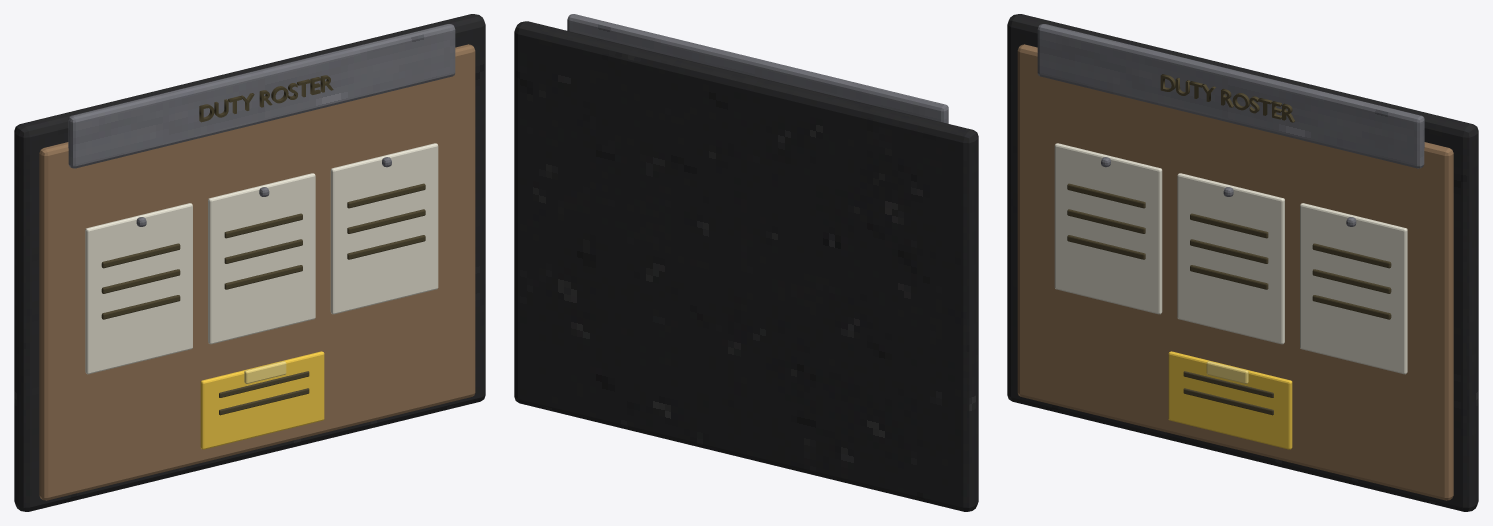
File: decor_bridge_crew_roster_board.glb
The picture shows the model from 3 angles, left to right: view 1: azimuth 30°, elevation 25°; view 2: azimuth 150°, elevation 25°; view 3: azimuth 330°, elevation 25°; orthographic projection.
Visible parts, largest first — view 1: DEC_BridgeCrewRosterBoard__Cork_Face, DEC_BridgeCrewRosterBoard__Board_Back, DEC_BridgeCrewRosterBoard__Header, DEC_BridgeCrewRosterBoard__Card_3, DEC_BridgeCrewRosterBoard__Card_2, DEC_BridgeCrewRosterBoard__Card_1, DEC_BridgeCrewRosterBoard__Briefing_Note, DEC_BridgeCrewRosterBoard__Header_Text, DEC_BridgeCrewRosterBoard__Note_Tape, DEC_BridgeCrewRosterBoard__Card_Line_1_1, DEC_BridgeCrewRosterBoard__Card_Line_1_2, DEC_BridgeCrewRosterBoard__Card_Line_1_3 (+8 smaller); view 2: DEC_BridgeCrewRosterBoard__Board_Back, DEC_BridgeCrewRosterBoard__Header; view 3: DEC_BridgeCrewRosterBoard__Cork_Face, DEC_BridgeCrewRosterBoard__Board_Back, DEC_BridgeCrewRosterBoard__Header, DEC_BridgeCrewRosterBoard__Card_1, DEC_BridgeCrewRosterBoard__Card_2, DEC_BridgeCrewRosterBoard__Card_3, DEC_BridgeCrewRosterBoard__Briefing_Note, DEC_BridgeCrewRosterBoard__Header_Text, DEC_BridgeCrewRosterBoard__Note_Tape, DEC_BridgeCrewRosterBoard__Card_Line_3_1, DEC_BridgeCrewRosterBoard__Card_Line_2_1, DEC_BridgeCrewRosterBoard__Card_Line_3_2 (+8 smaller).
Part boxes in pixels (x1,y1,x2,y2): DEC_BridgeCrewRosterBoard__Cork_Face: [39, 44, 475, 500]; DEC_BridgeCrewRosterBoard__Board_Back: [14, 14, 485, 511]; DEC_BridgeCrewRosterBoard__Header: [68, 24, 455, 168]; DEC_BridgeCrewRosterBoard__Card_3: [330, 143, 438, 314]; DEC_BridgeCrewRosterBoard__Card_2: [208, 173, 315, 344]; DEC_BridgeCrewRosterBoard__Card_1: [85, 203, 192, 374]; DEC_BridgeCrewRosterBoard__Briefing_Note: [200, 351, 324, 449]; DEC_BridgeCrewRosterBoard__Header_Text: [199, 75, 333, 122]; DEC_BridgeCrewRosterBoard__Note_Tape: [244, 361, 286, 383]; DEC_BridgeCrewRosterBoard__Card_Line_1_1: [101, 243, 180, 268]; DEC_BridgeCrewRosterBoard__Card_Line_1_2: [101, 269, 180, 293]; DEC_BridgeCrewRosterBoard__Card_Line_1_3: [101, 295, 180, 319]; DEC_BridgeCrewRosterBoard__Board_Back: [514, 21, 978, 511]; DEC_BridgeCrewRosterBoard__Header: [567, 14, 948, 123]; DEC_BridgeCrewRosterBoard__Cork_Face: [1017, 44, 1453, 500]; DEC_BridgeCrewRosterBoard__Board_Back: [1007, 14, 1478, 511]; DEC_BridgeCrewRosterBoard__Header: [1037, 24, 1424, 168]; DEC_BridgeCrewRosterBoard__Card_1: [1054, 143, 1162, 314]; DEC_BridgeCrewRosterBoard__Card_2: [1177, 173, 1284, 344]; DEC_BridgeCrewRosterBoard__Card_3: [1300, 203, 1407, 374]; DEC_BridgeCrewRosterBoard__Briefing_Note: [1168, 351, 1292, 449]; DEC_BridgeCrewRosterBoard__Header_Text: [1160, 74, 1294, 122]; DEC_BridgeCrewRosterBoard__Note_Tape: [1206, 361, 1248, 383]; DEC_BridgeCrewRosterBoard__Card_Line_3_1: [1312, 243, 1391, 268]; DEC_BridgeCrewRosterBoard__Card_Line_2_1: [1190, 213, 1268, 238]; DEC_BridgeCrewRosterBoard__Card_Line_3_2: [1312, 269, 1391, 293].
Size of the model in its own units: 1.14 by 0.92 by 0.096.
7 materials, 2 textured.
